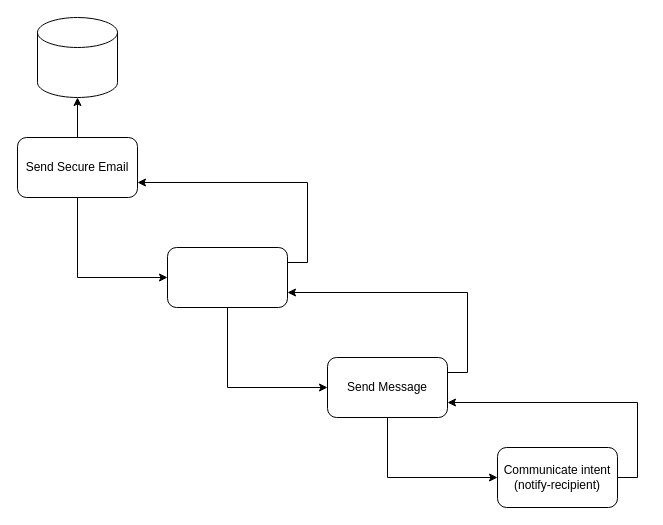
This 663x525 diagram has some shape labels left out. Here are the shapes that lost their labels. From the top down, the centre of each, then its label:
At (x=77, y=57): "Exchange".
At (x=227, y=277): "Communicate Intent (inform-customer)".
